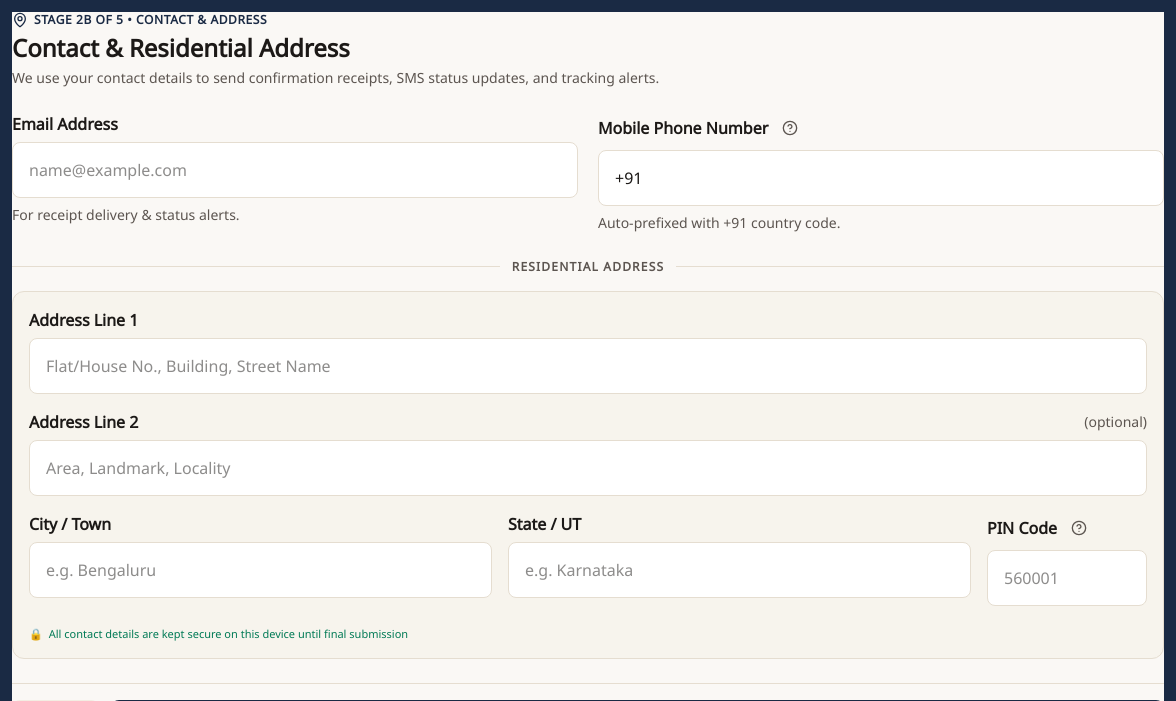
ContactStep Component (Stage 2b) › renders all contact fields and auto-prefixes +91 on phone input
Expected: the heading "Contact & Residential Address" is shown, left=12, top=31, right=350, bottom=64
Type "9876543210" into the field labelled "Mobile Phone Number".
click(881, 178); type("9876543210")  # box left=598, top=150, right=1164, bottom=206
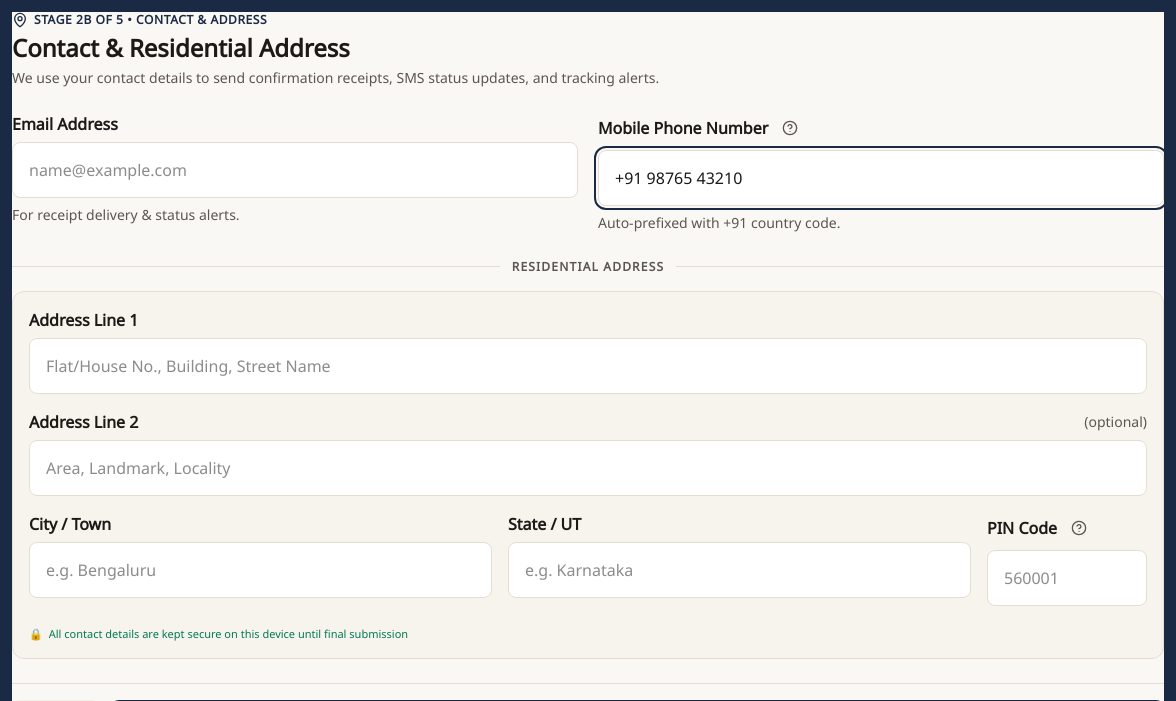
Expected: the field labelled "Mobile Phone Number" holds "+91 98765 43210", left=598, top=150, right=1164, bottom=206
